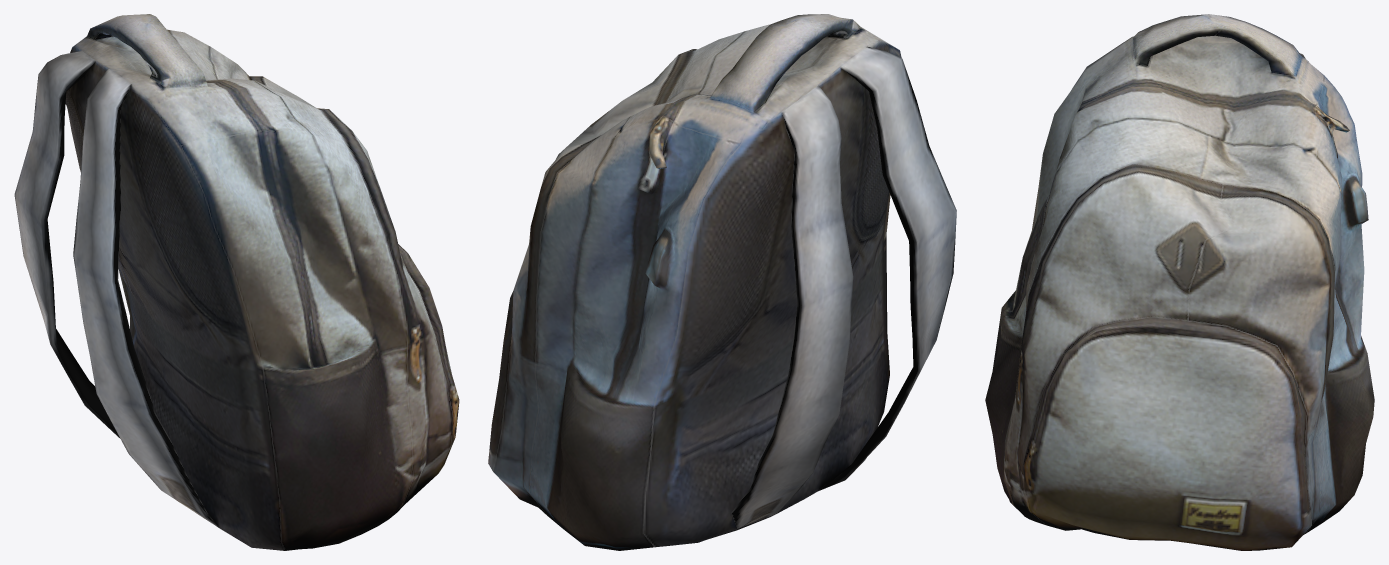
Rendered from bag.fbx.
3 renders of one model, left to right at view 1: azimuth 30°, elevation 25°; view 2: azimuth 150°, elevation 25°; view 3: azimuth 270°, elevation 25°, orthographic. The views are drawn at different scales.
Visible parts, largest first — view 1: back; view 2: back; view 3: back.
Boxes of the visible parts, bbox=[...] form: back: bbox=[14, 14, 459, 550]; back: bbox=[488, 14, 956, 550]; back: bbox=[985, 14, 1374, 550].
Bounding box in the file's own units: 1.99 × 2.66 × 2.09.
